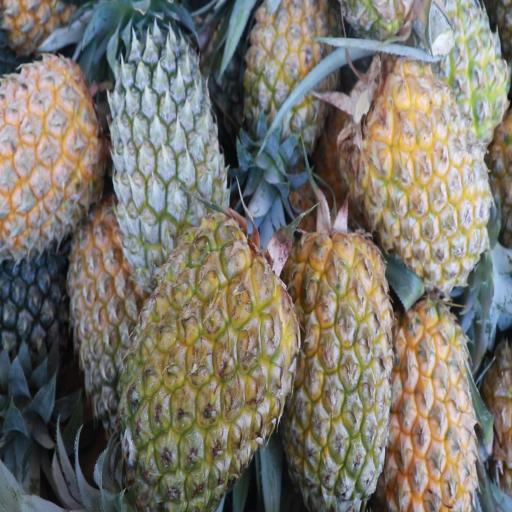------------------------------: (70, 206, 147, 421), (247, 0, 339, 156)
Pineapple - v8 v1: (130, 217, 295, 512), (292, 234, 394, 509), (361, 72, 491, 275), (0, 54, 102, 243), (392, 299, 480, 512)
